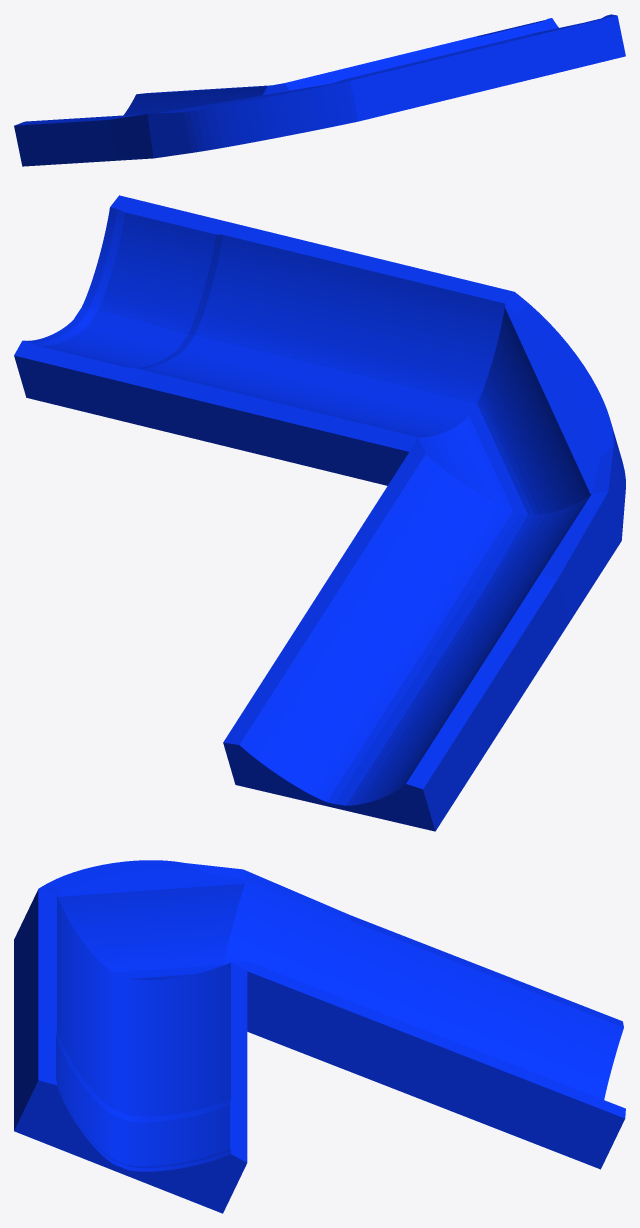
Rendered from Slide.fbx.
The picture shows the model from 3 angles, top to bottom: view 1: azimuth 30°, elevation 25°; view 2: azimuth 150°, elevation 25°; view 3: azimuth 270°, elevation 25°; orthographic projection. The views are drawn at different scales.
Visible parts, largest first — view 1: Cube; view 2: Cube; view 3: Cube.
Boxes of the visible parts, x1,y1,x2,y2 form: Cube: [14, 14, 625, 166]; Cube: [14, 195, 625, 831]; Cube: [14, 860, 625, 1213].
Size of the model in its own units: 2398 by 1091 by 2140.
